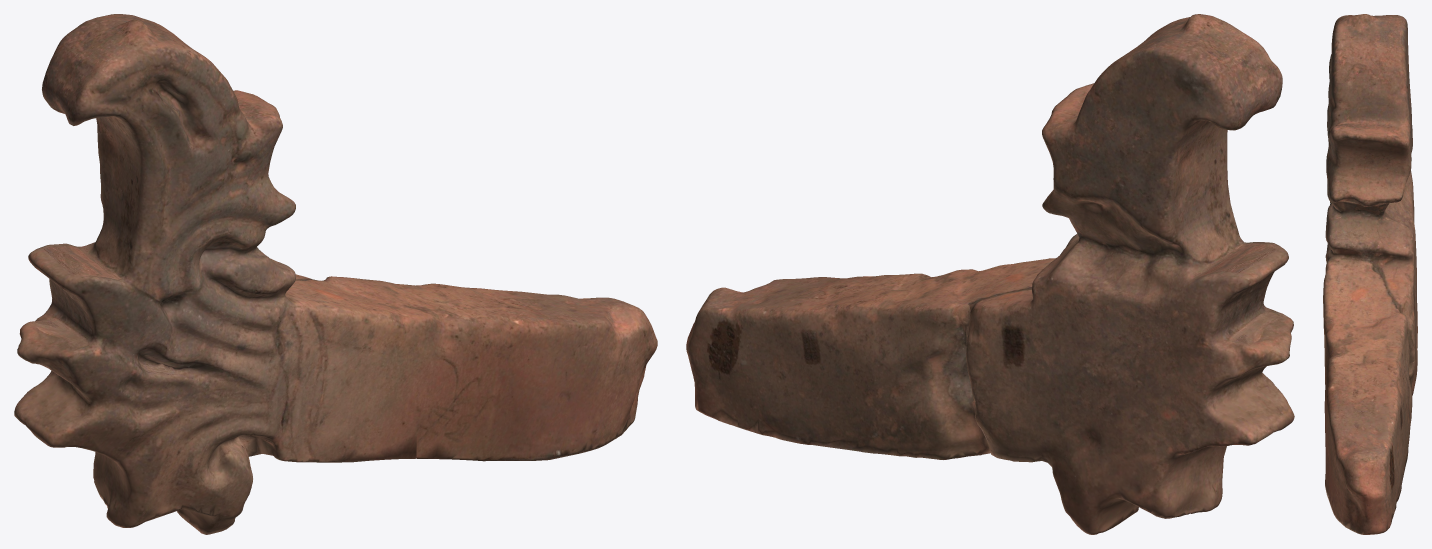
The model's file is MysonMuseum_hoavanhoaco_final.glb.
The picture shows the model from 3 angles, left to right: view 1: azimuth 30°, elevation 25°; view 2: azimuth 150°, elevation 25°; view 3: azimuth 270°, elevation 25°; orthographic projection. The views are drawn at different scales.
Bounding box in the file's own units: 0.3411 × 0.2754 × 0.0656.
1 material, 1 textured.
